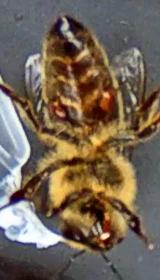varroa_mite: (88, 80, 120, 118), (40, 98, 79, 128)
